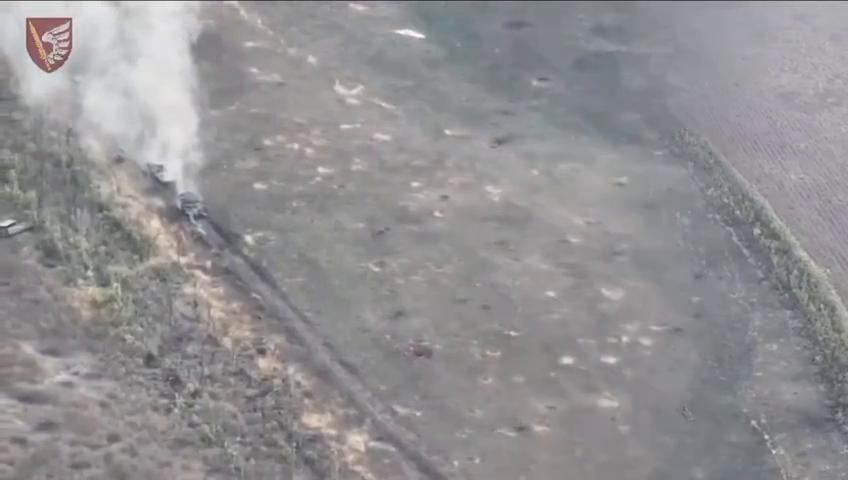tank: (173, 189, 215, 229), (142, 156, 176, 189)
